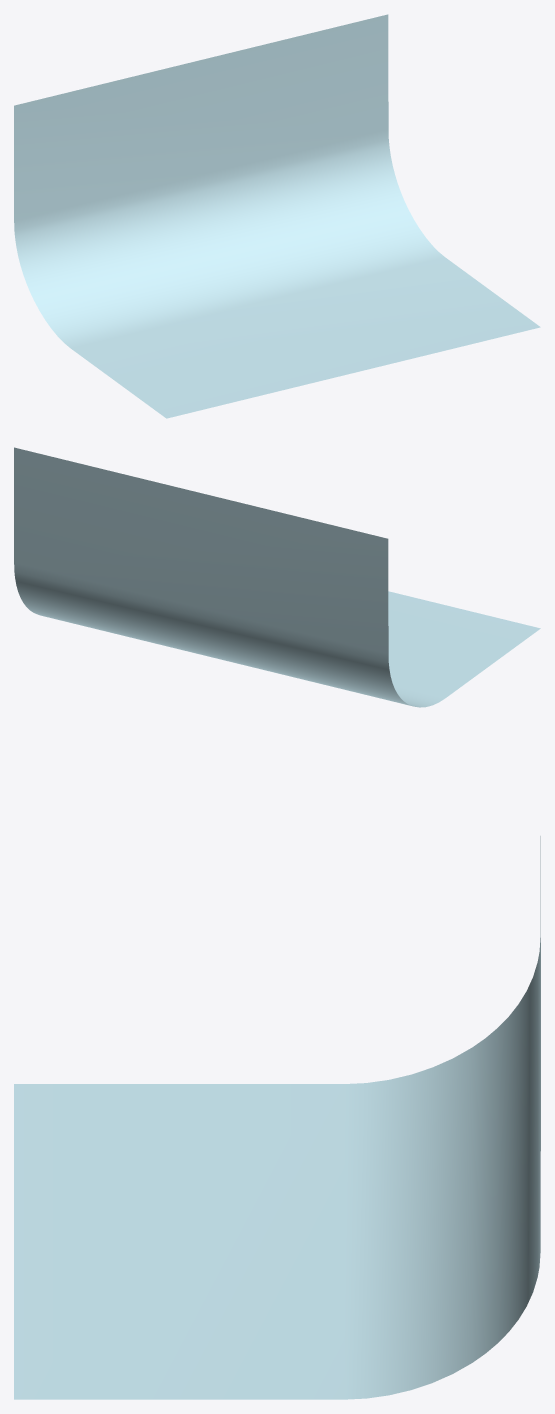
File: Licht_Test.gltf
3 renders of one model, top to bottom at view 1: azimuth 30°, elevation 25°; view 2: azimuth 150°, elevation 25°; view 3: azimuth 270°, elevation 25°, orthographic. The views are drawn at different scales.
Visible parts, largest first — view 1: Holkehle; view 2: Holkehle; view 3: Holkehle.
Boxes of the visible parts, box(x1,y1,x2,y2) form: Holkehle: box(14, 14, 540, 418); Holkehle: box(14, 447, 540, 707); Holkehle: box(14, 836, 540, 1399).
Bounding box in the file's own units: 780 × 401 × 551.
